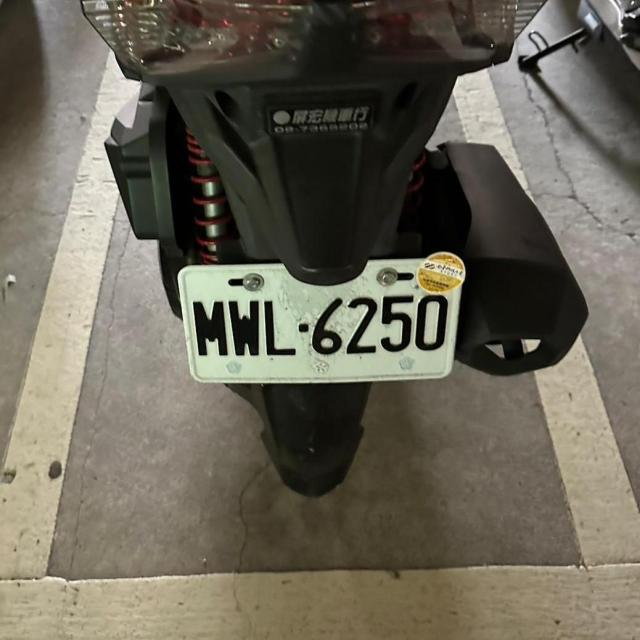W: (170, 245, 472, 394)
